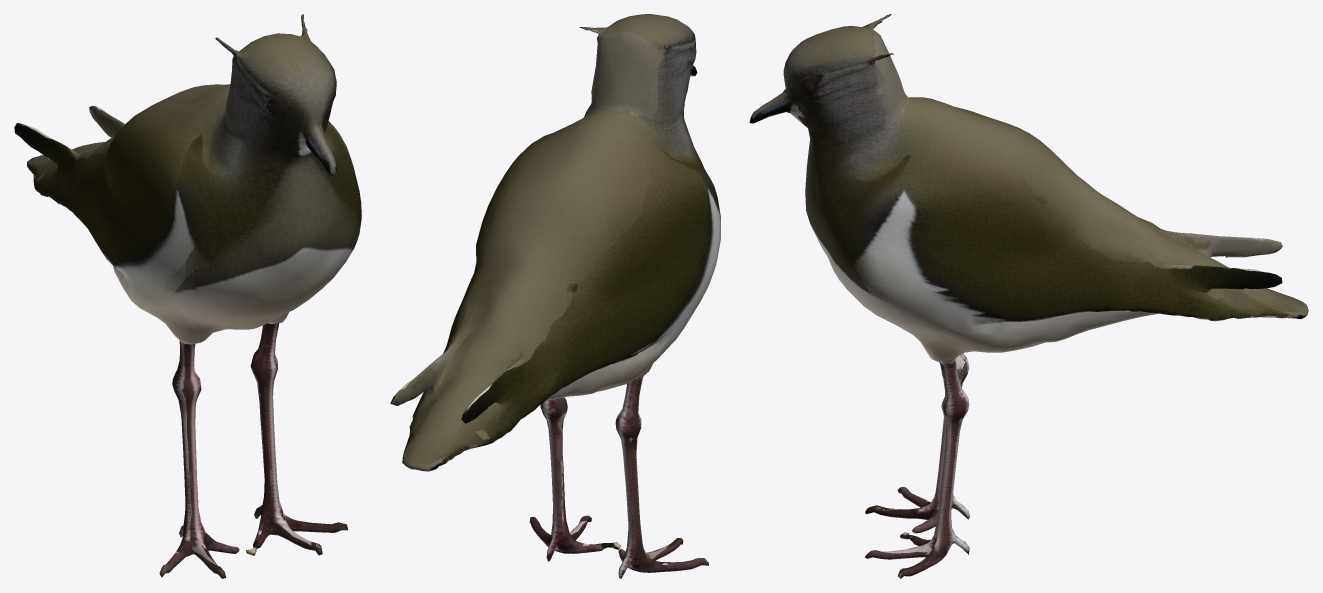
Rendered from tero.glb.
The picture shows the model from 3 angles, left to right: view 1: azimuth 30°, elevation 25°; view 2: azimuth 150°, elevation 25°; view 3: azimuth 270°, elevation 25°; orthographic projection. The views are drawn at different scales.
Visible parts, largest first — view 1: temp_mesh.ply; view 2: temp_mesh.ply; view 3: temp_mesh.ply.
Boxes of the visible parts, box(x1,y1,x2,y2) form: temp_mesh.ply: box(14, 14, 361, 578); temp_mesh.ply: box(390, 14, 720, 578); temp_mesh.ply: box(749, 14, 1308, 578).
Size of the model in its own units: 0.1304 by 0.3396 by 0.34.
1 material, 1 textured.
